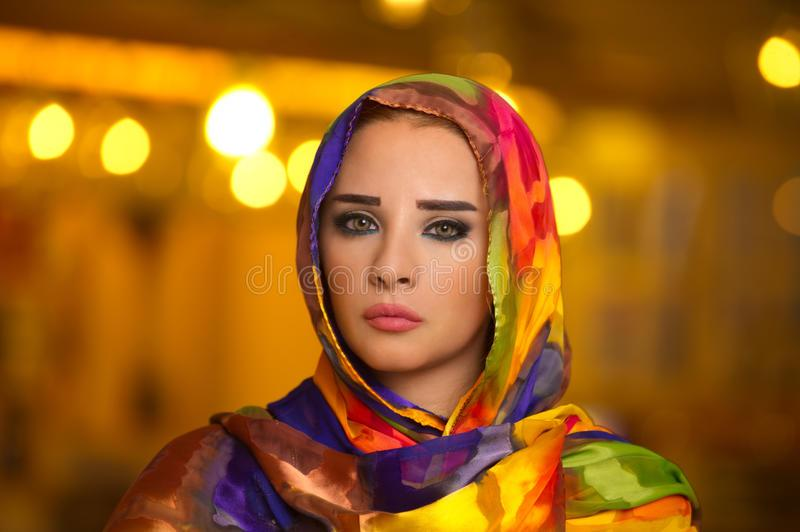No Mask: (308, 103, 560, 404)
